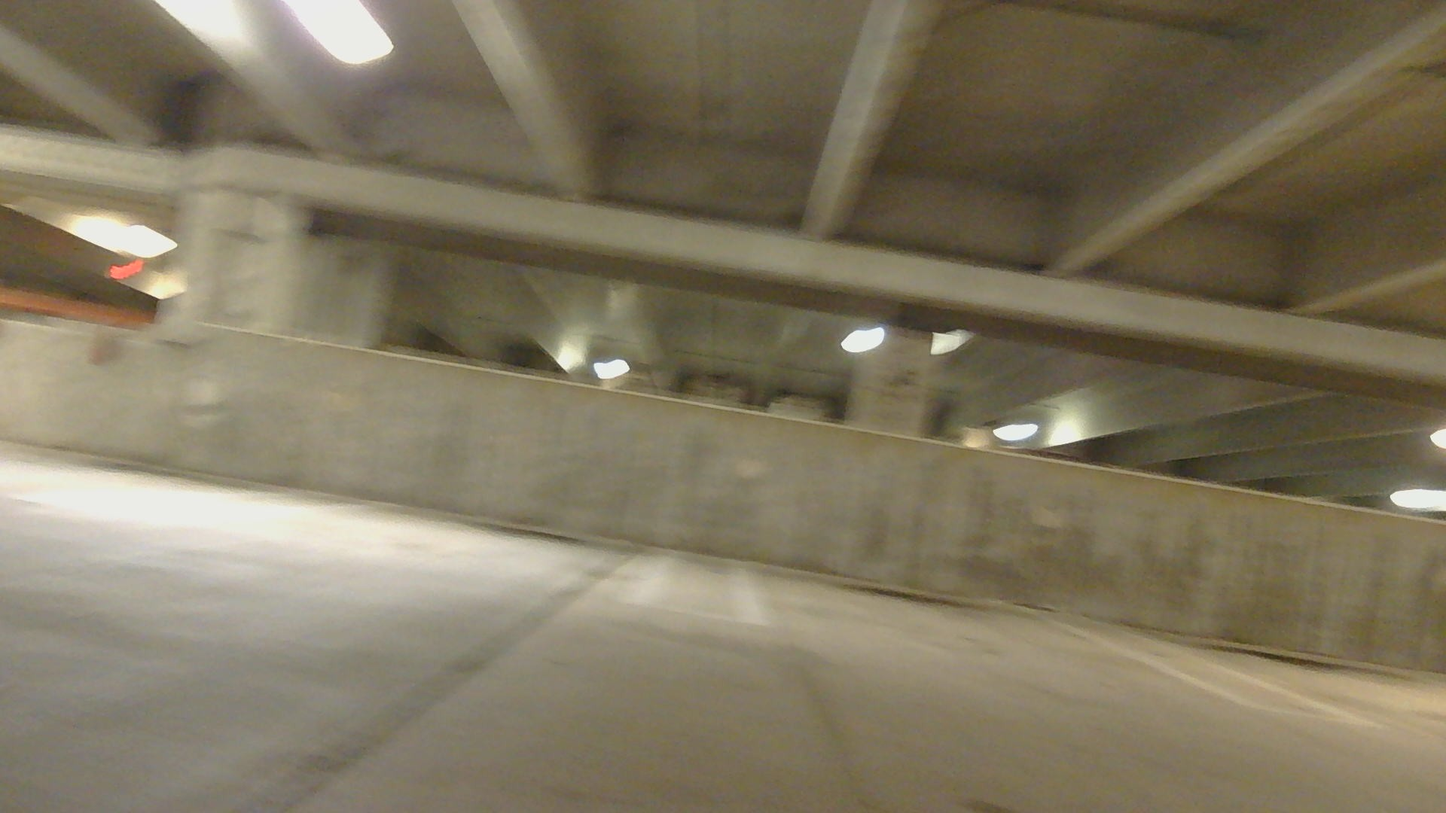empty_spot: (72, 370, 728, 606), (713, 491, 1307, 701), (1066, 531, 1446, 736)
